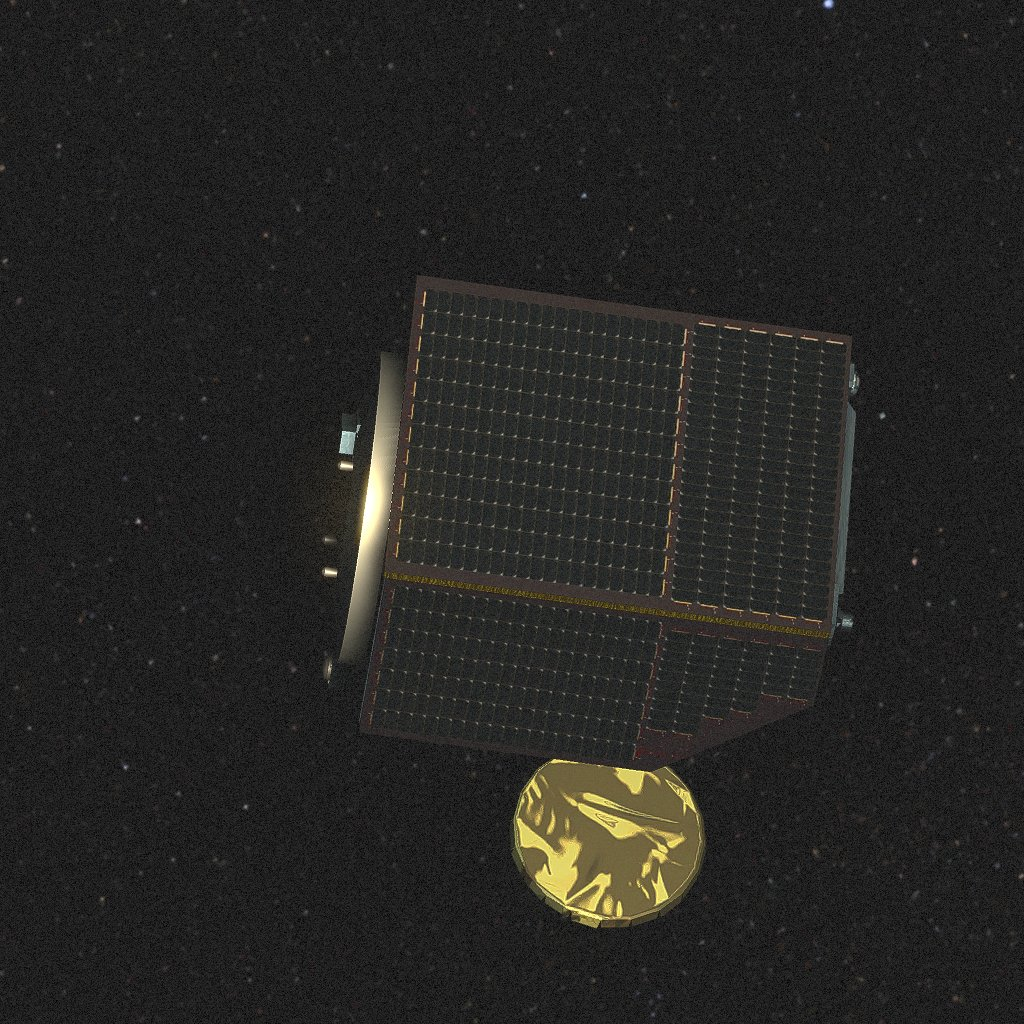cheops: (322, 275, 860, 928)
